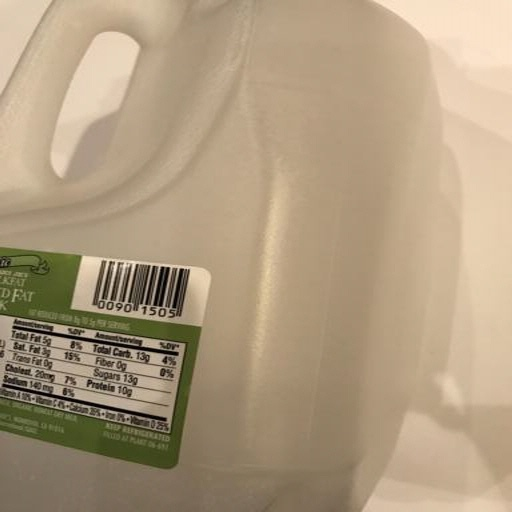Plastic_1: (4, 1, 402, 512)
